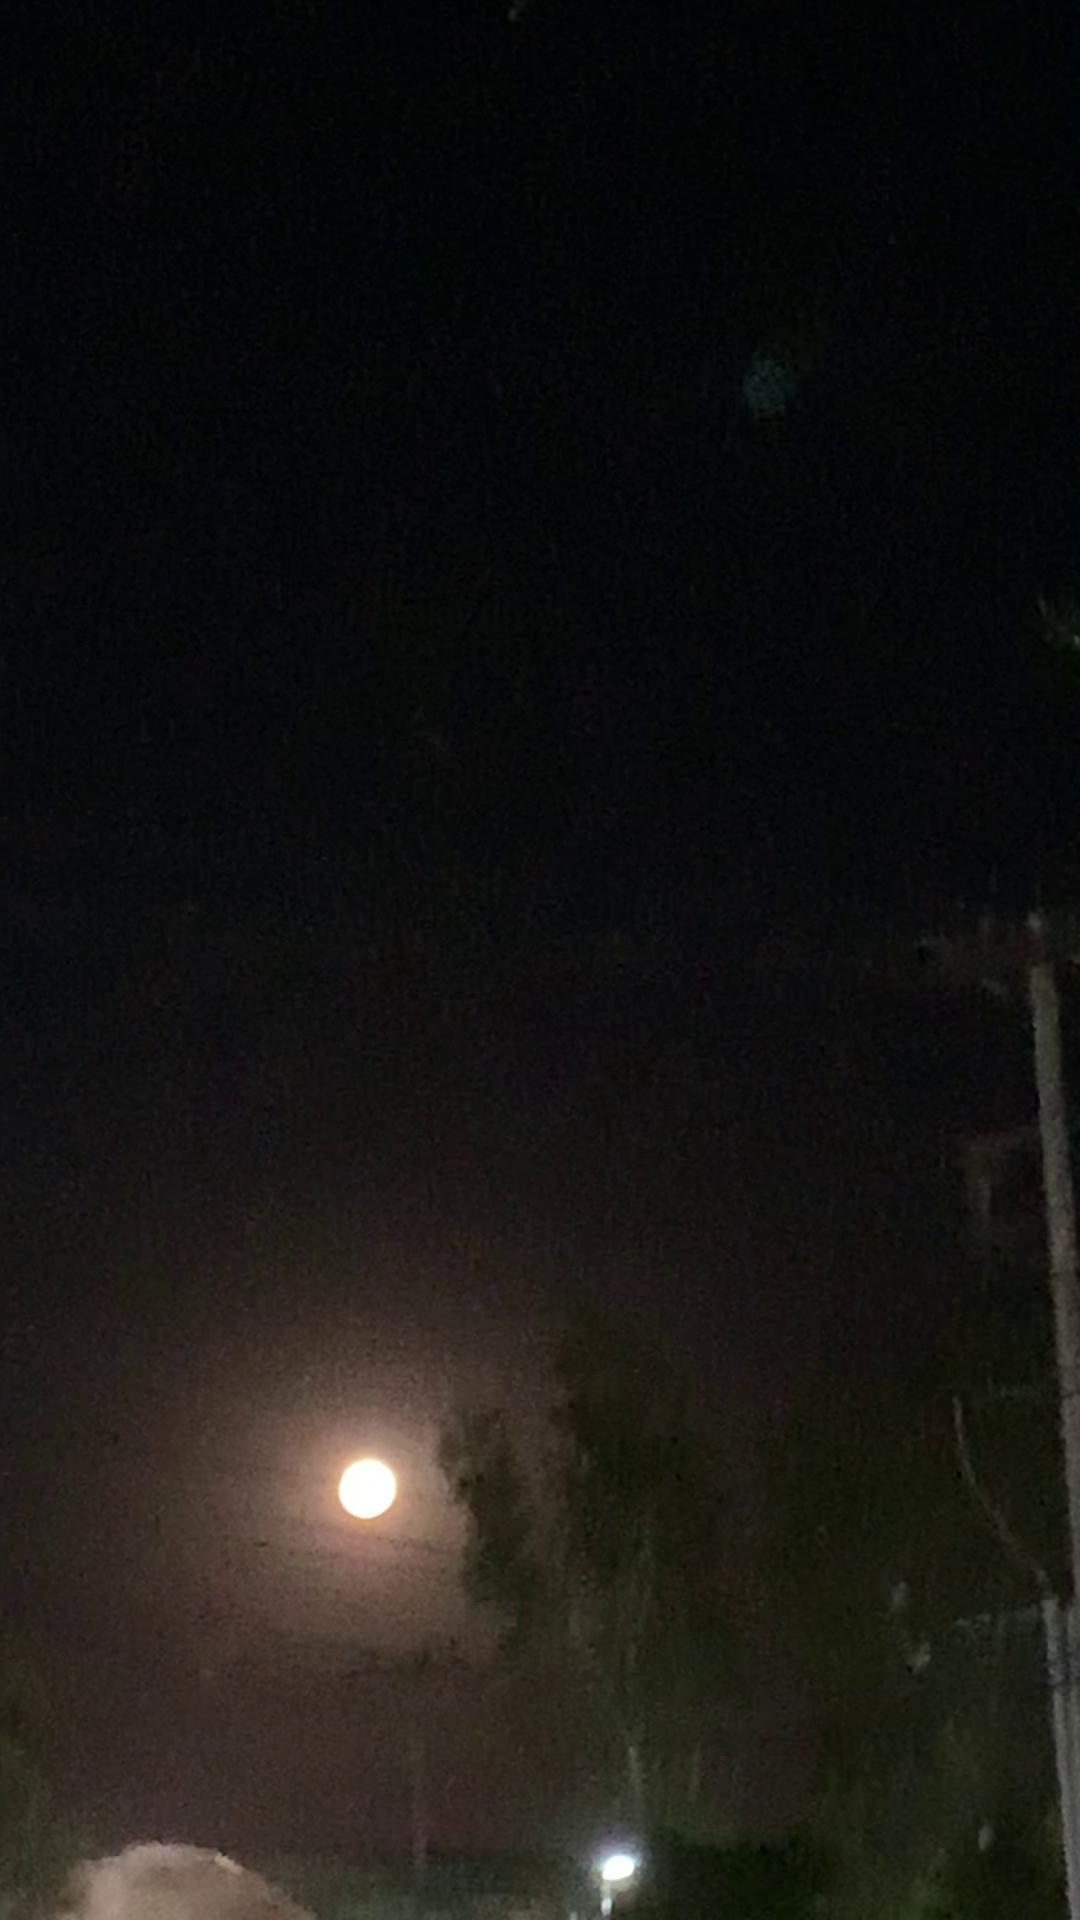moon: (331, 1443, 419, 1519)
